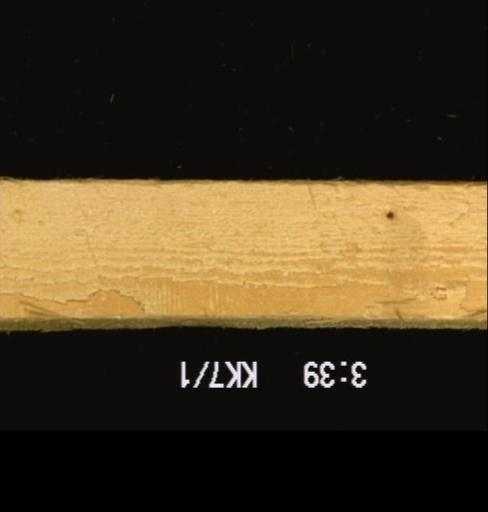small_knot: (382, 206, 398, 222)
